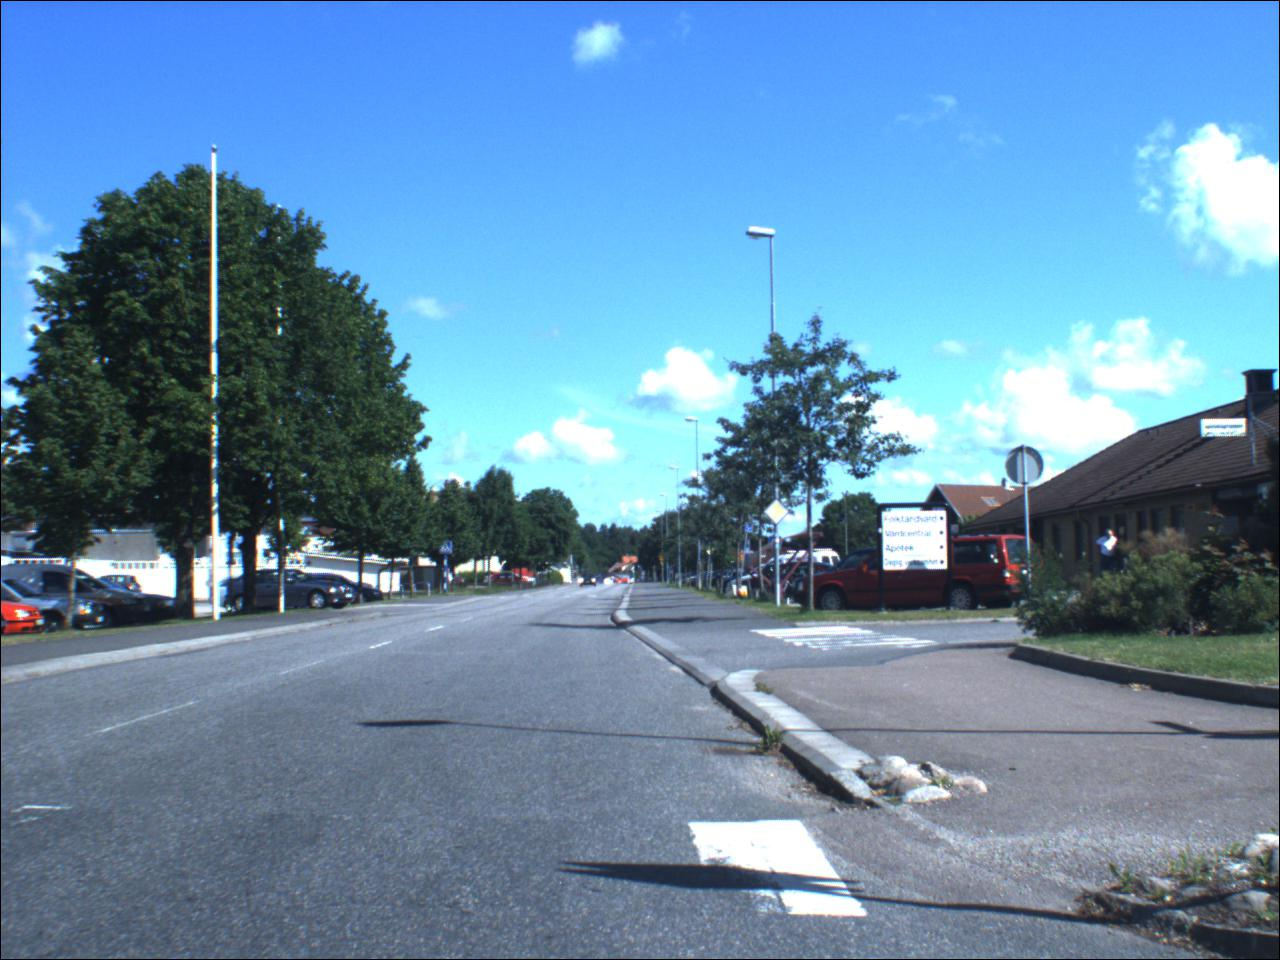PEDESTRIAN_CROSSING: (441, 541, 455, 557)
PRIORITY_ROAD: (765, 501, 792, 527)
